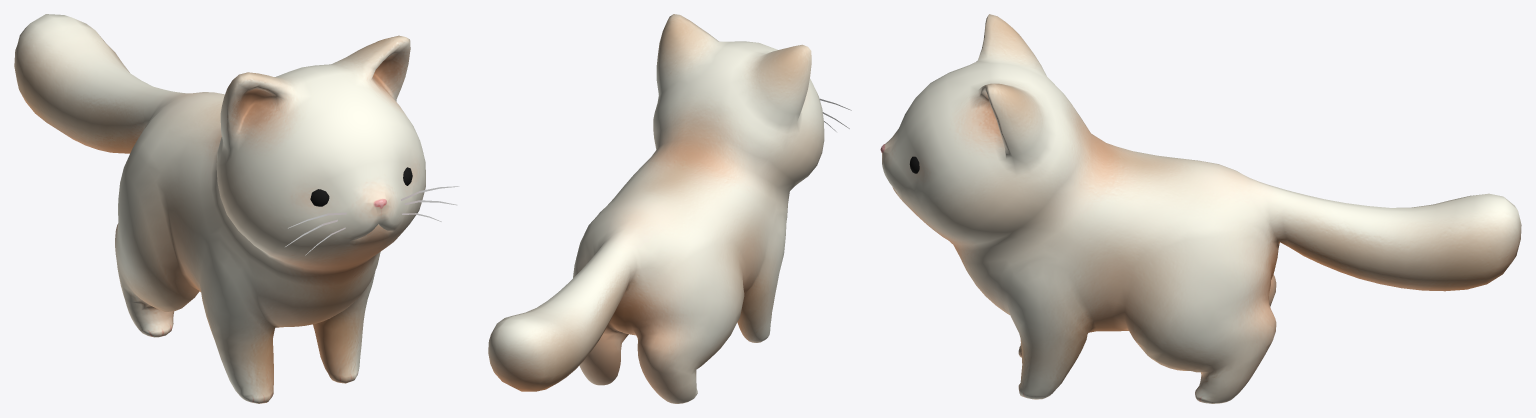
Rendered from gato1-teste.obj.
3 renders of one model, left to right at view 1: azimuth 30°, elevation 25°; view 2: azimuth 150°, elevation 25°; view 3: azimuth 270°, elevation 25°, orthographic. The views are drawn at different scales.
Visible parts, largest first — view 1: fat_cat_white_Cat01_0; view 2: fat_cat_white_Cat01_0; view 3: fat_cat_white_Cat01_0.
Boxes of the visible parts, left/top/right/bottom form: fat_cat_white_Cat01_0: left=14, top=14, right=459, bottom=403; fat_cat_white_Cat01_0: left=488, top=14, right=851, bottom=403; fat_cat_white_Cat01_0: left=880, top=14, right=1521, bottom=403.
Bounding box in the file's own units: 0.3137 × 0.5763 × 1.03.
Materials: 1 (1 with a texture image).
